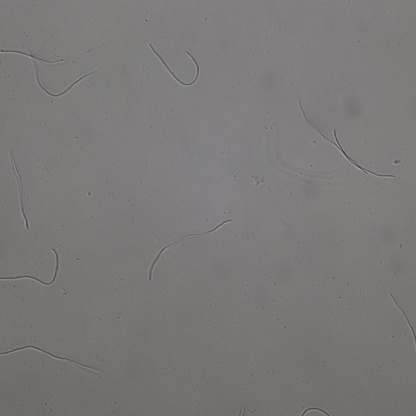Sensitive: (300, 100, 395, 178), (147, 220, 230, 281), (29, 50, 98, 97), (1, 343, 101, 374), (1, 248, 60, 286), (150, 45, 200, 86), (10, 153, 29, 228), (1, 47, 64, 65), (391, 295, 416, 340), (300, 407, 330, 416)
